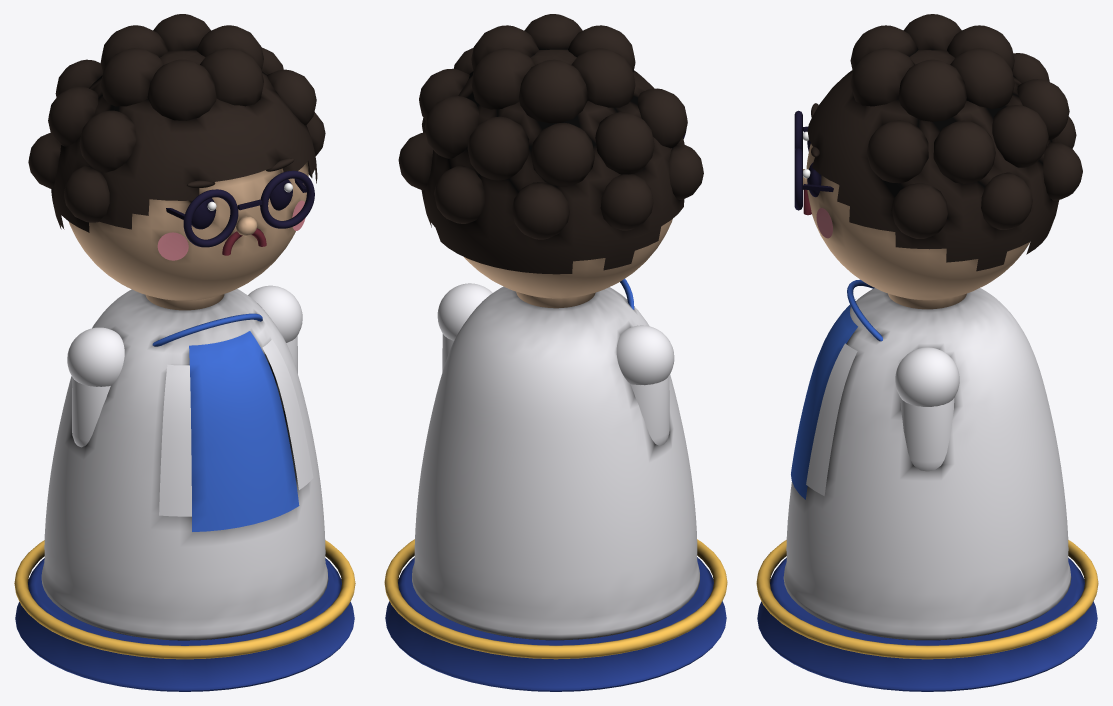
File: researcher.glb
The picture shows the model from 3 angles, left to right: view 1: azimuth 30°, elevation 25°; view 2: azimuth 150°, elevation 25°; view 3: azimuth 270°, elevation 25°; orthographic projection.
Parts seen in each view (by area): view 1: part_body.001, part_hair, part_shirt, part_base, part_head.001, part_rim, part_lapel1, part_curl4, part_cap_R, part_curl11, part_curl3, part_curl5 (+16 smaller); view 2: part_body.001, part_hair, part_base, part_rim, part_head.001, part_curl2, part_curl9, part_curl8, part_curl10, part_cap_R, part_curl1, part_curl3 (+14 smaller); view 3: part_body.001, part_hair, part_base, part_head.001, part_rim, part_shirt, part_curl0, part_cap_L, part_curl6, part_curl12, part_upper_L, part_lapel0 (+14 smaller).
Part boxes in pixels (<box>): part_body.001: <box>41,289,328,640</box>; part_hair: <box>51,50,317,232</box>; part_shirt: <box>189,331,299,531</box>; part_base: <box>15,558,354,691</box>; part_head.001: <box>69,161,308,300</box>; part_rim: <box>14,540,355,659</box>; part_lapel1: <box>159,364,191,516</box>; part_curl4: <box>147,59,216,120</box>; part_cap_R: <box>67,327,124,386</box>; part_curl11: <box>79,110,136,172</box>; part_curl3: <box>100,48,164,106</box>; part_curl5: <box>200,48,263,106</box>; part_body.001: <box>412,286,699,640</box>; part_hair: <box>421,49,684,274</box>; part_base: <box>385,557,726,691</box>; part_rim: <box>384,539,727,659</box>; part_head.001: <box>464,219,672,298</box>; part_curl2: <box>519,59,588,123</box>; part_curl9: <box>531,123,594,186</box>; part_curl8: <box>467,116,529,180</box>; part_curl10: <box>595,112,654,174</box>; part_cap_R: <box>616,325,674,385</box>; part_curl1: <box>471,48,535,109</box>; part_curl3: <box>571,48,635,107</box>; part_body.001: <box>783,288,1071,640</box>; part_hair: <box>807,50,1059,271</box>; part_base: <box>757,558,1097,691</box>; part_head.001: <box>806,144,1029,300</box>; part_rim: <box>756,540,1098,659</box>; part_shirt: <box>791,299,857,499</box>; part_curl0: <box>898,59,966,121</box>; part_cap_L: <box>895,347,959,406</box>; part_curl6: <box>933,120,995,183</box>; part_curl12: <box>866,120,928,183</box>; part_upper_L: <box>900,398,954,471</box>; part_lapel0: <box>806,343,857,495</box>.
Bounding box in the file's own units: 0.656 × 1.23 × 0.656.
